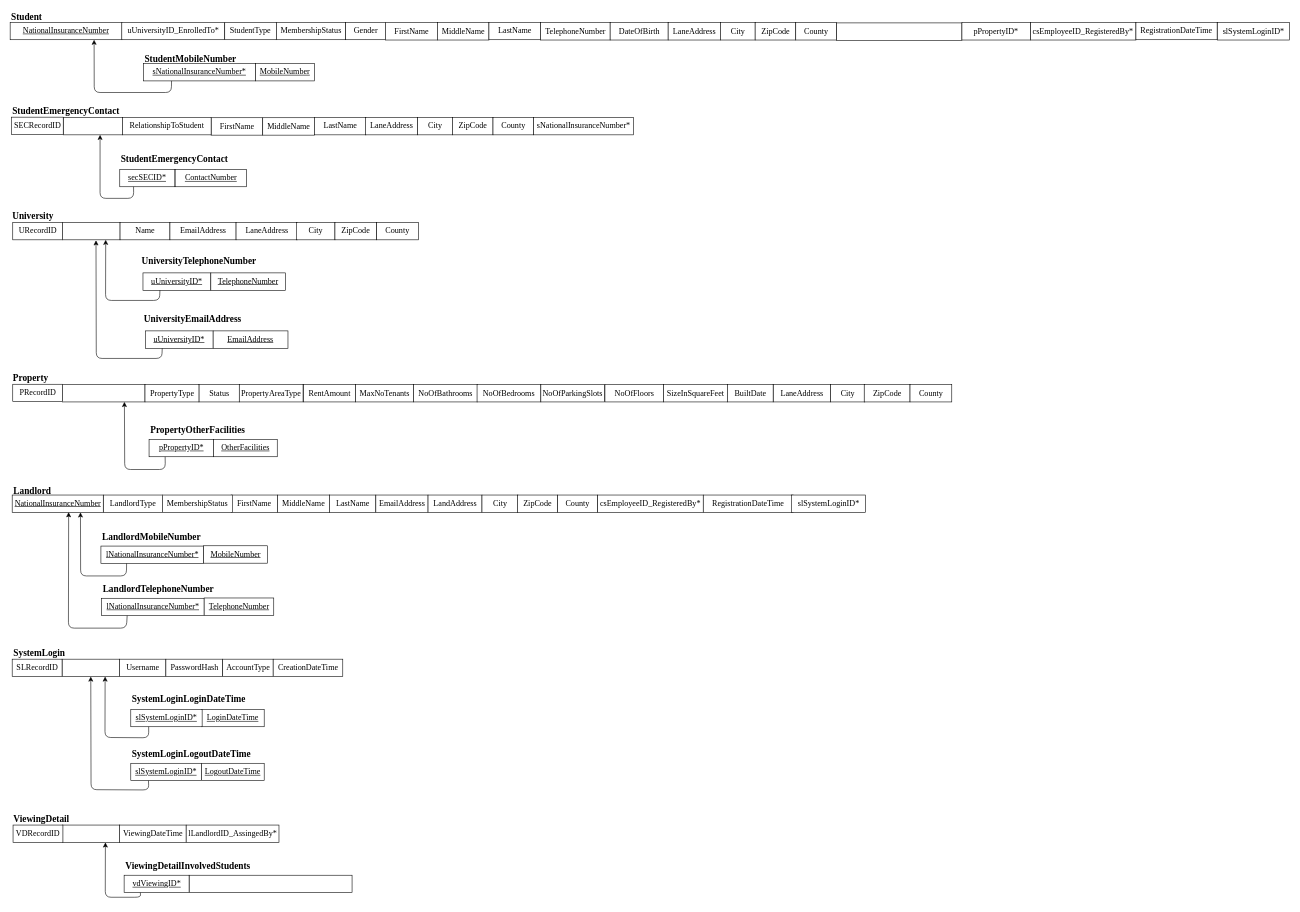
Image size: 1300x912. Some labels were removed from this diagram. Here are the shapes that lost their labels. From the top down, the centre of each, then its label:
At (x=899, y=31): "EstimatedProgramCompletionDate".
At (x=92, y=126): "SECID".
At (x=91, y=231): "UniversityID".
At (x=103, y=393): "PropertyID".
At (x=90, y=668): "SystemLoginID".
At (x=91, y=833): "ViewingID".
At (x=270, y=884): "sNationalInsuranceNumber_InvolvedStudents *".
